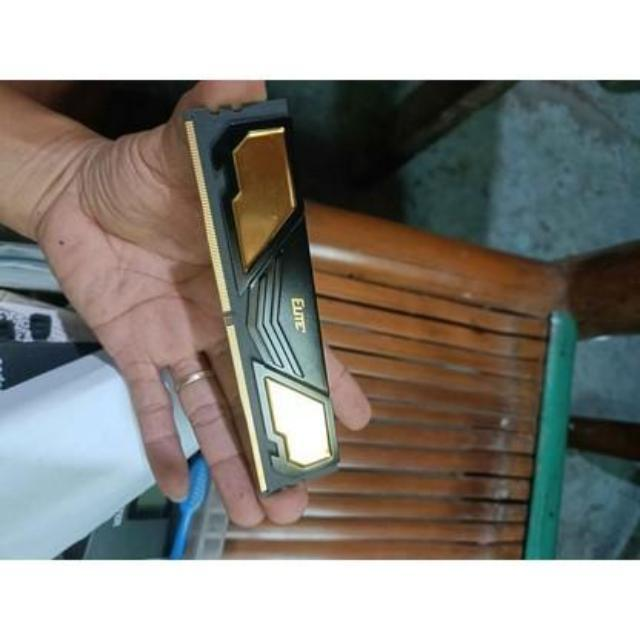RAM: (186, 93, 346, 498)
